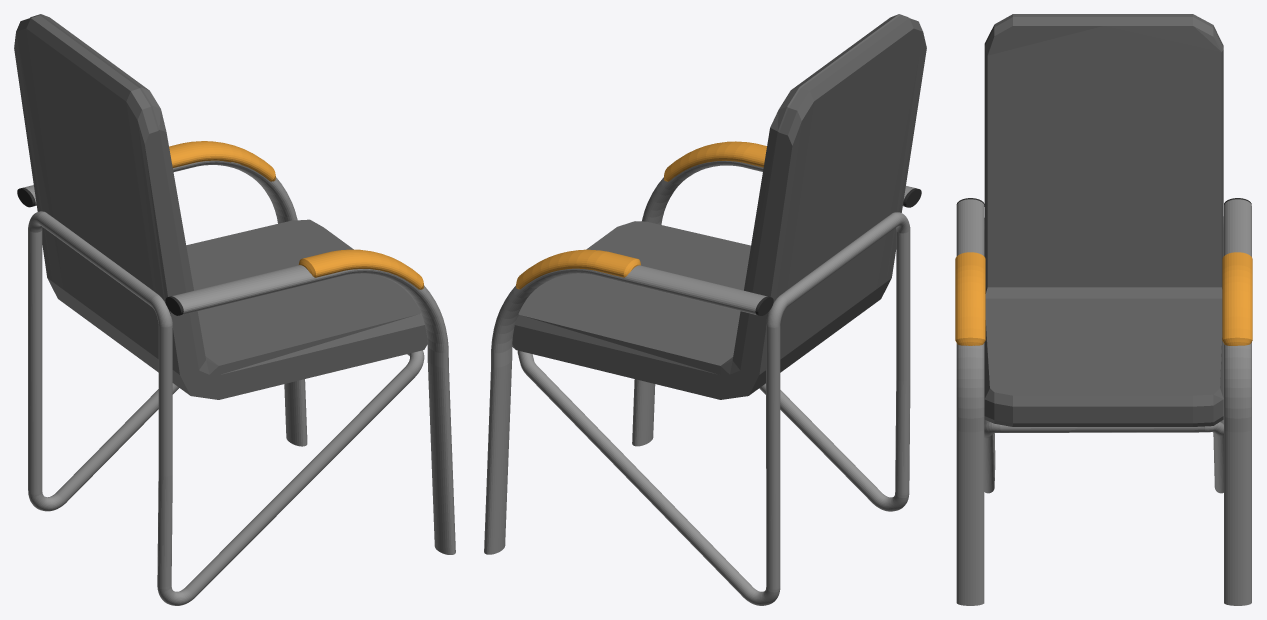
The model's file is lectorium_chair_visual_dark-grey.dae.
The picture shows the model from 3 angles, left to right: view 1: azimuth 30°, elevation 25°; view 2: azimuth 150°, elevation 25°; view 3: azimuth 270°, elevation 25°; orthographic projection. The views are drawn at different scales.
Visible parts, largest first — view 1: Cube_005; view 2: Cube_005; view 3: Cube_005.
Boxes of the visible parts, x1,y1,x2,y2 form: Cube_005: (14,14,455,605); Cube_005: (484,14,926,605); Cube_005: (955,14,1252,605).
Size of the model in its own units: 43.49 by 40.96 by 70.38.
